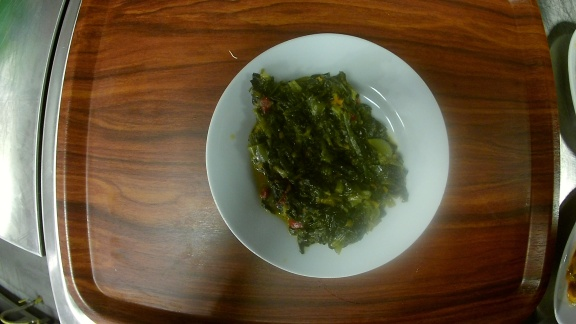ispanak: (203, 33, 453, 279)
